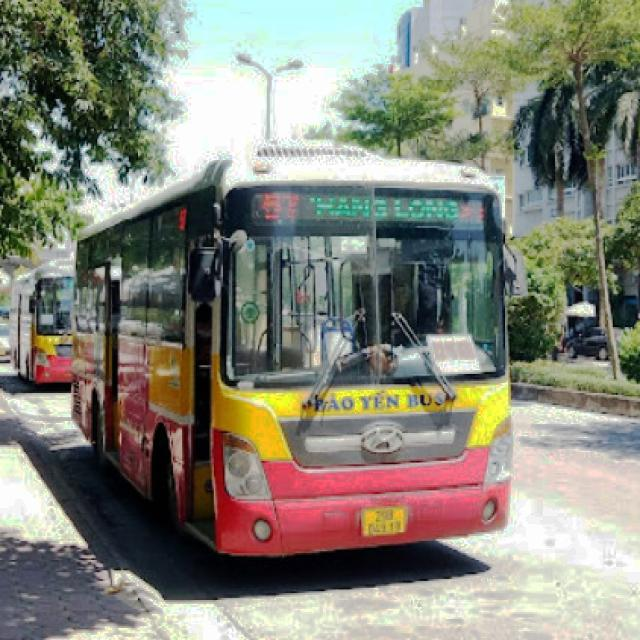Car: (78, 163, 511, 528), (7, 259, 88, 384), (564, 325, 622, 360), (0, 320, 11, 362)
